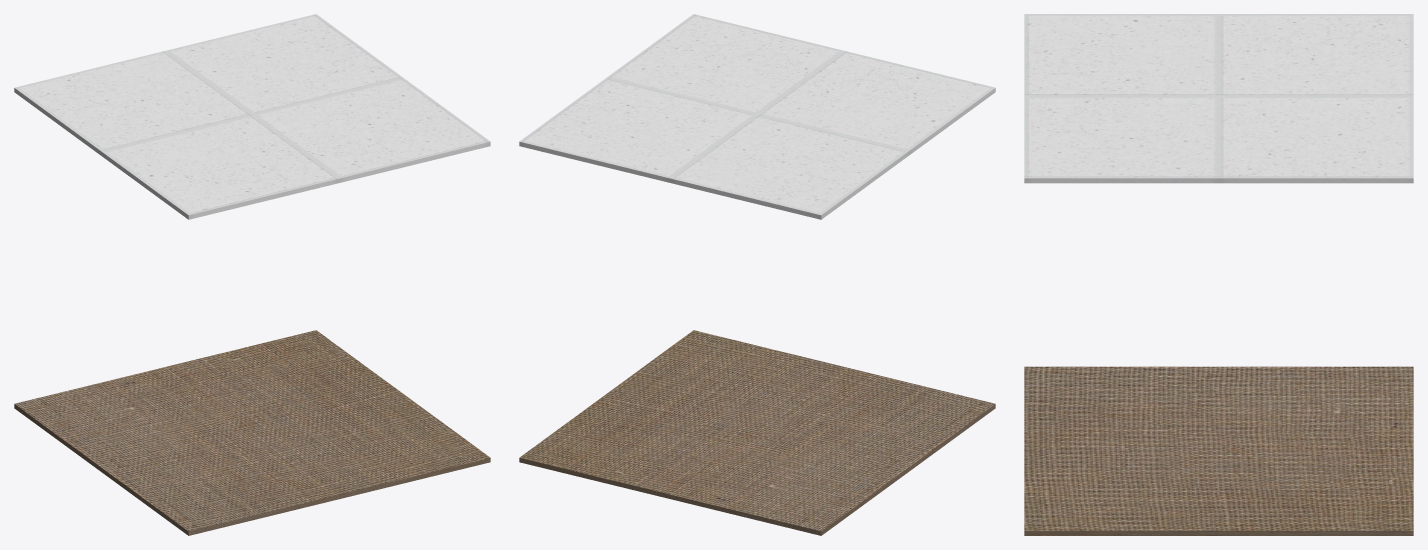
The model's file is Prefab_ER.gltf.
3 renders of one model, left to right at view 1: azimuth 30°, elevation 25°; view 2: azimuth 150°, elevation 25°; view 3: azimuth 270°, elevation 25°, orthographic. The views are drawn at different scales.
Visible parts, largest first — view 1: Floor, Roof; view 2: Floor, Roof; view 3: Floor, Roof.
Boxes of the visible parts, x1=… form: Floor: x1=14, y1=330, x2=490, y2=535; Roof: x1=14, y1=14, x2=490, y2=219; Floor: x1=519, y1=330, x2=995, y2=535; Roof: x1=519, y1=14, x2=995, y2=219; Floor: x1=1024, y1=366, x2=1413, y2=535; Roof: x1=1024, y1=14, x2=1413, y2=183.
Bounding box in the file's own units: 7 × 7.1 × 7.
2 materials, 2 textured.
